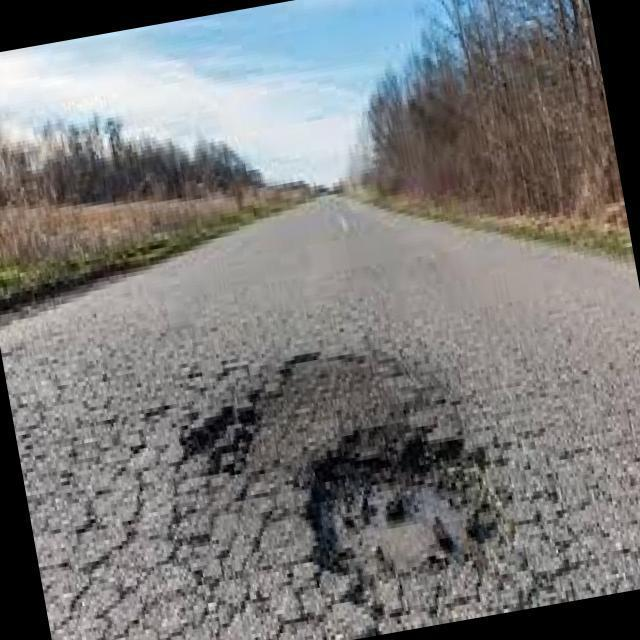Pothole: (182, 371, 490, 569)
